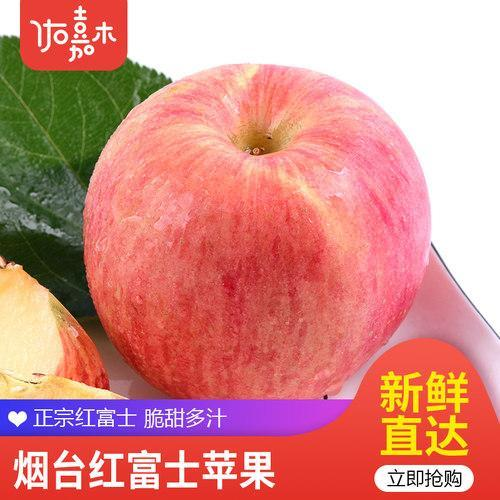apple: (79, 61, 431, 406), (1, 258, 115, 394)
